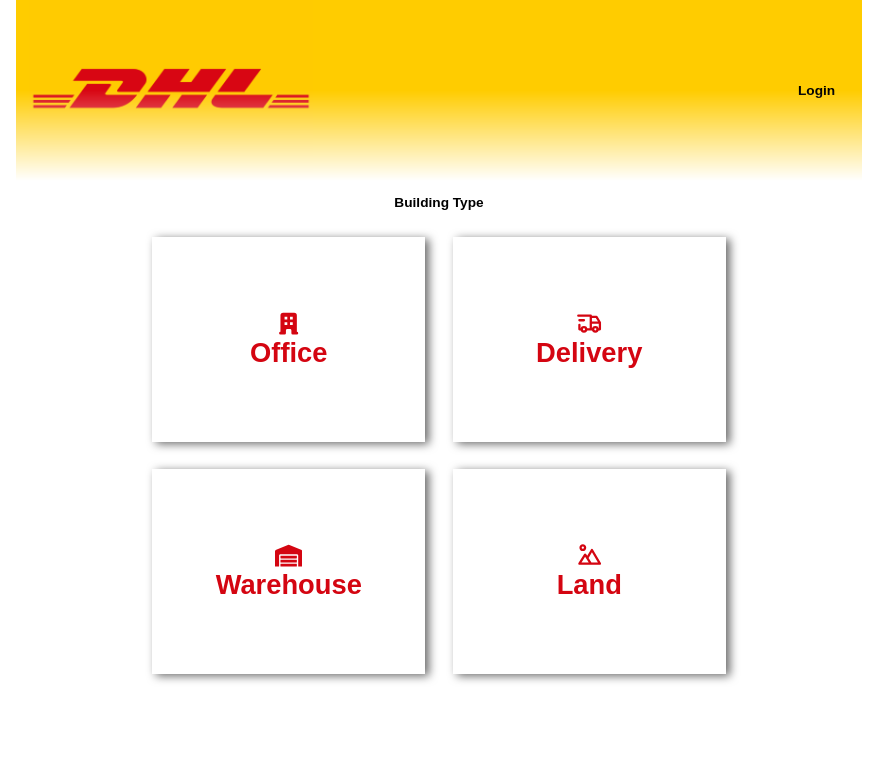
Test: renders form on click
This screenshot has width=879, height=768.
Click the button with test id "officeBtn".
click(289, 339)  # box [152,237,425,442]
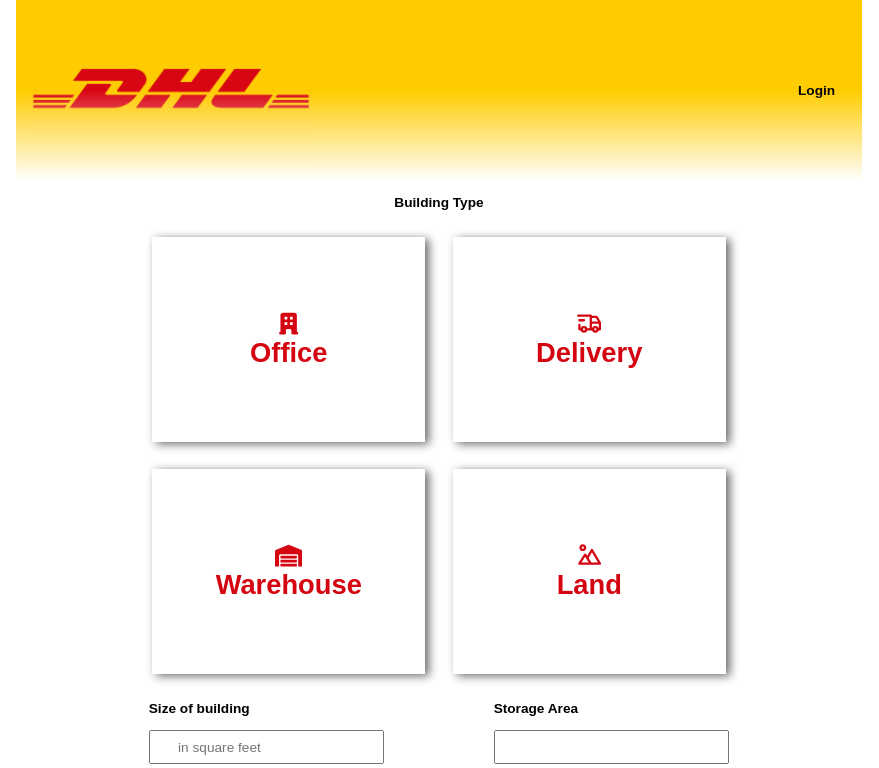
Expected: the number field with test id "inputBar" is shown, [149,730,384,764]
